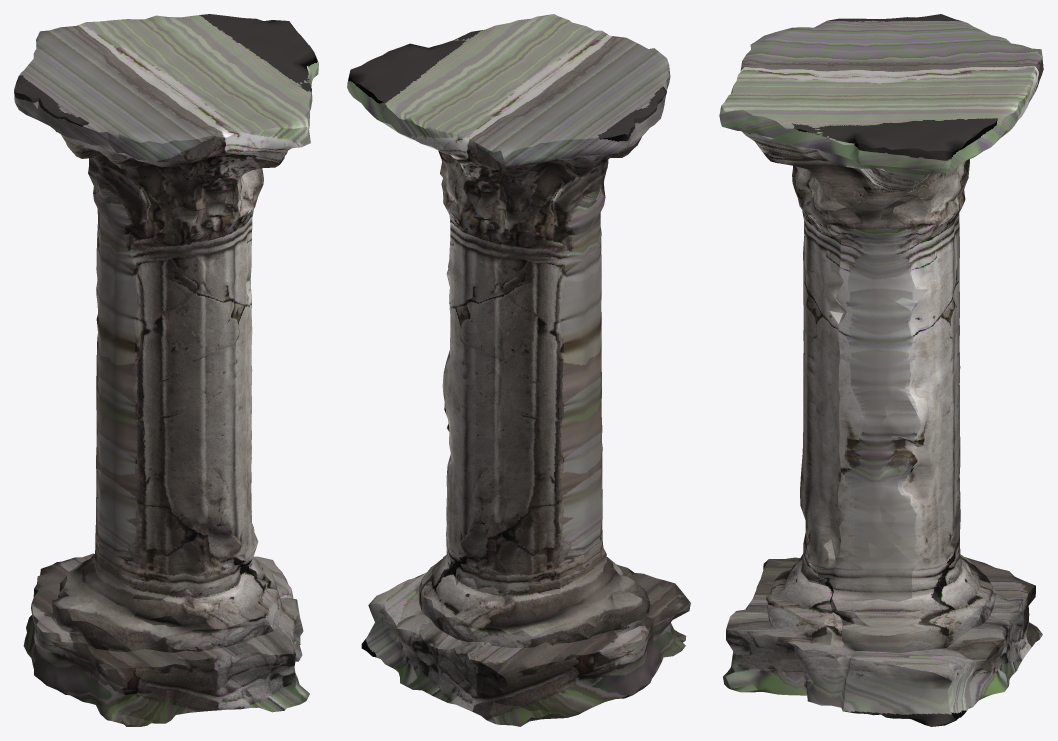
The model's file is pillar_ruin.glb.
3 views of the same model, side by side, from view 1: azimuth 30°, elevation 25°; view 2: azimuth 150°, elevation 25°; view 3: azimuth 270°, elevation 25° (orthographic).
Visible parts, largest first — view 1: geometry_0; view 2: geometry_0; view 3: geometry_0.
Part boxes in pixels (x1,y1,x2,y2): geometry_0: (14,14,318,726); geometry_0: (347,14,690,726); geometry_0: (719,14,1043,726).
Bounding box in the file's own units: 1.5 × 3 × 1.5.
1 material, 1 textured.
